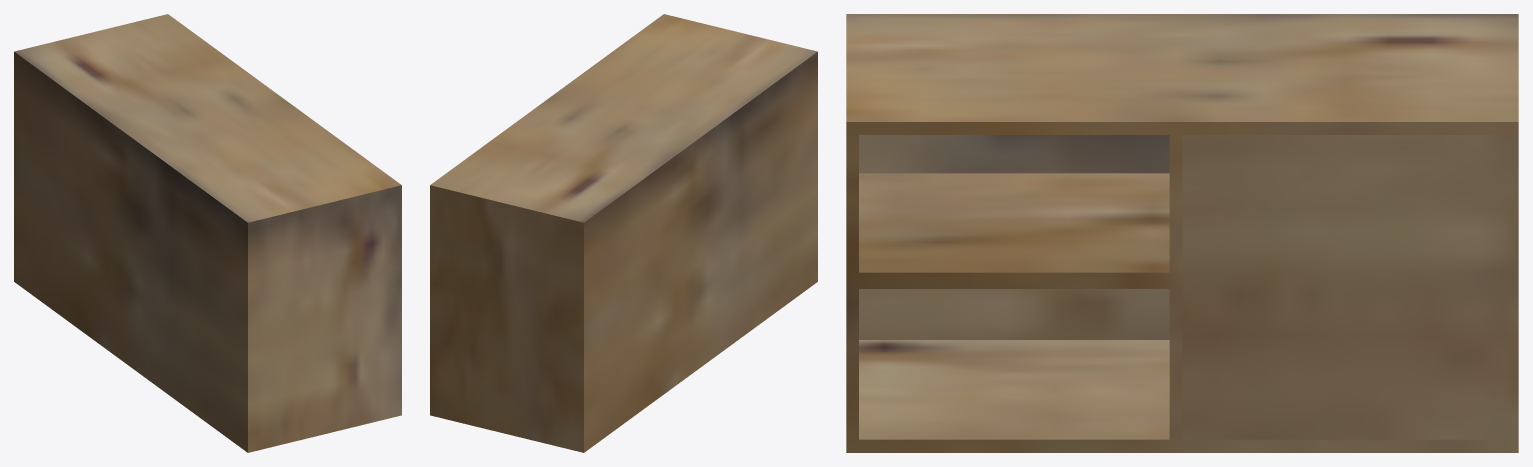
File: stool.glb
The picture shows the model from 3 angles, left to right: view 1: azimuth 30°, elevation 25°; view 2: azimuth 150°, elevation 25°; view 3: azimuth 270°, elevation 25°; orthographic projection. The views are drawn at different scales.
Parts seen in each view (by area): view 1: Cube; view 2: Cube; view 3: Cube.
Part boxes in pixels (x1,y1,x2,y2): Cube: (14,14,401,452); Cube: (430,14,817,452); Cube: (846,14,1518,452).
Size of the model in its own units: 0.7 by 1 by 1.84.
1 material, 1 textured.
